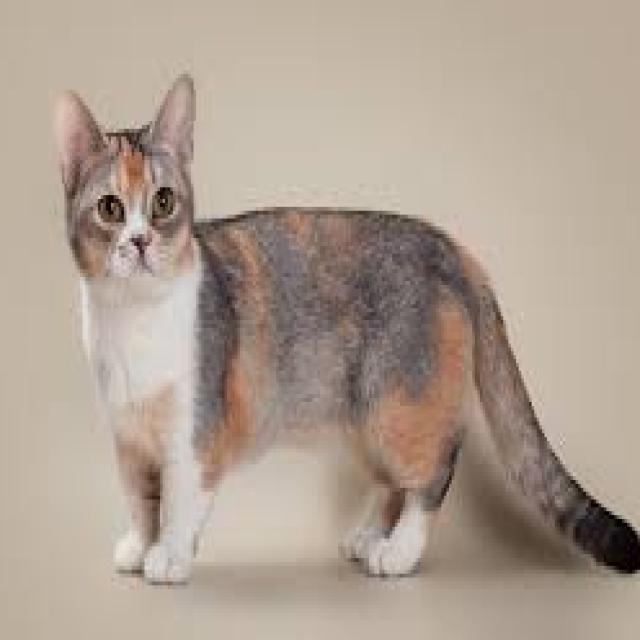Munchkin: (49, 66, 640, 590)
